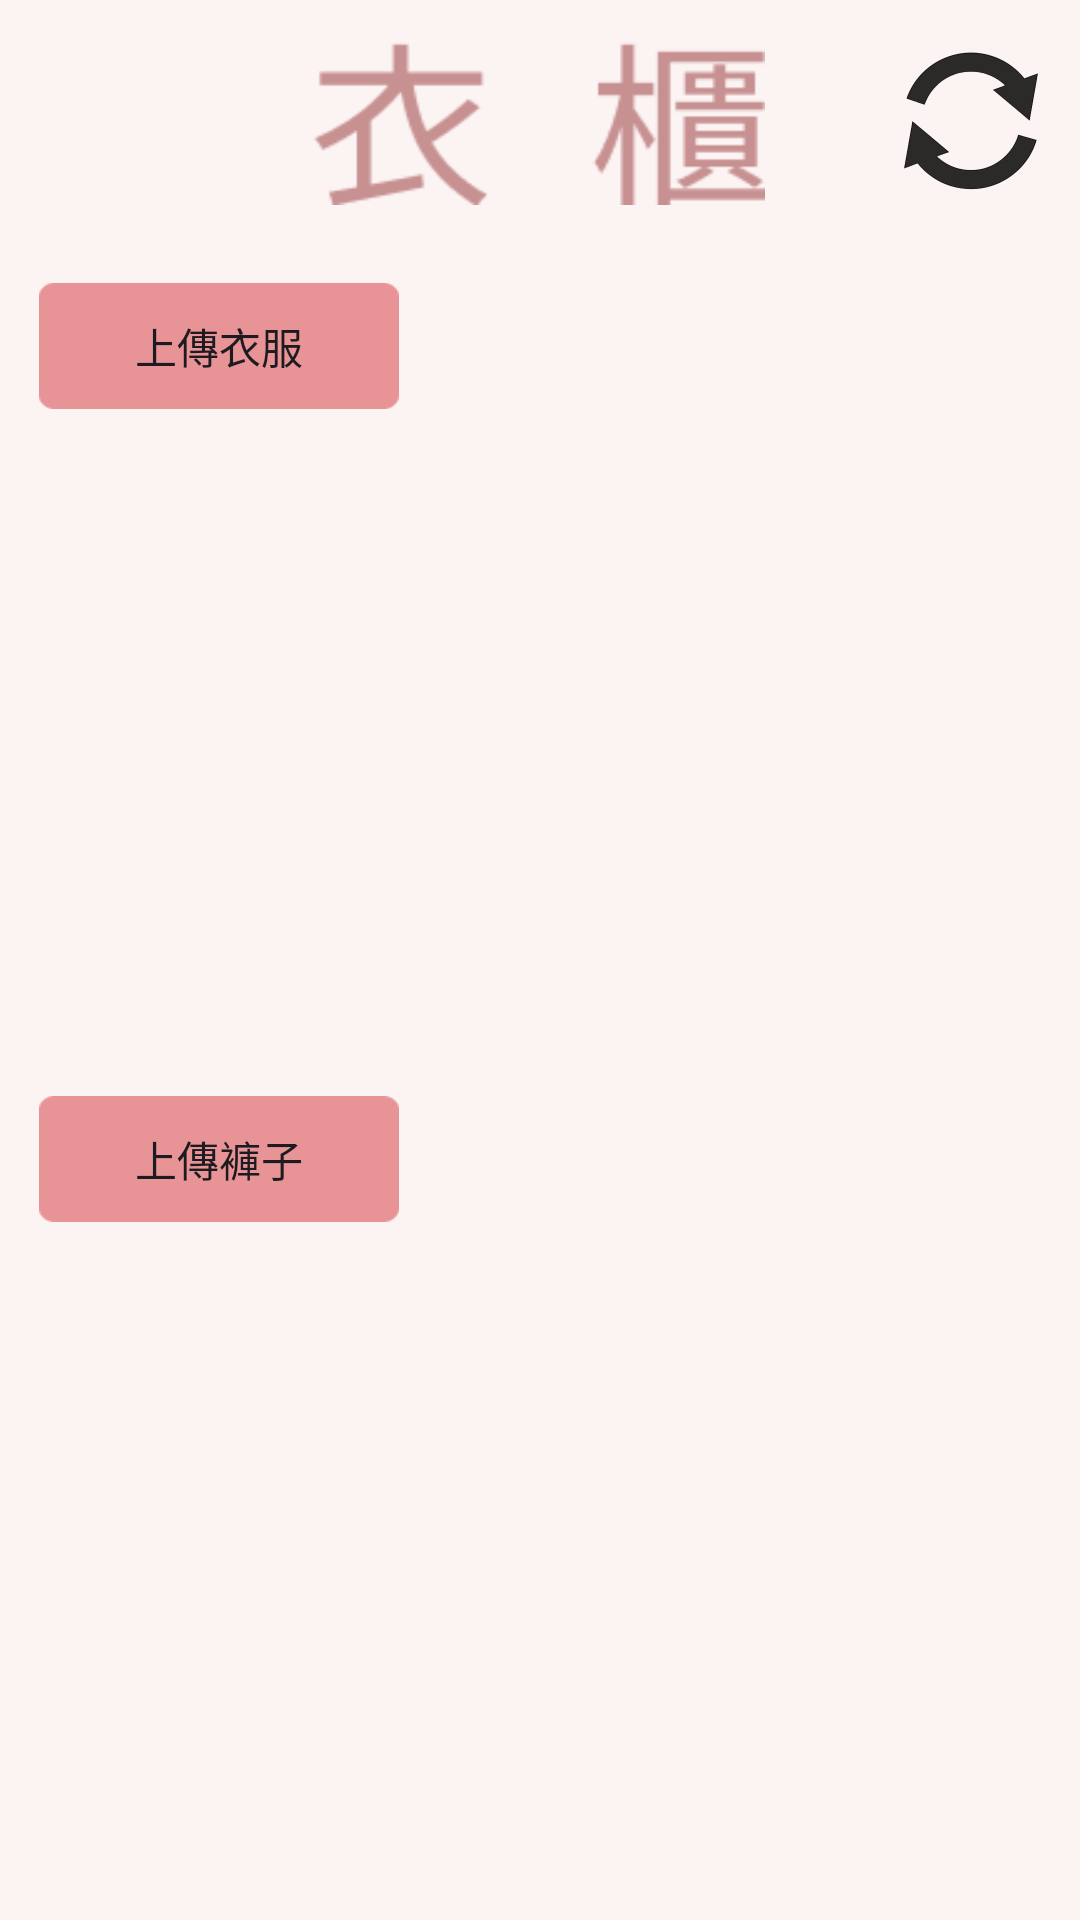

Named icons in this screenshot (1080x1920) and their centers, (x,y):
reload: (971,120)
